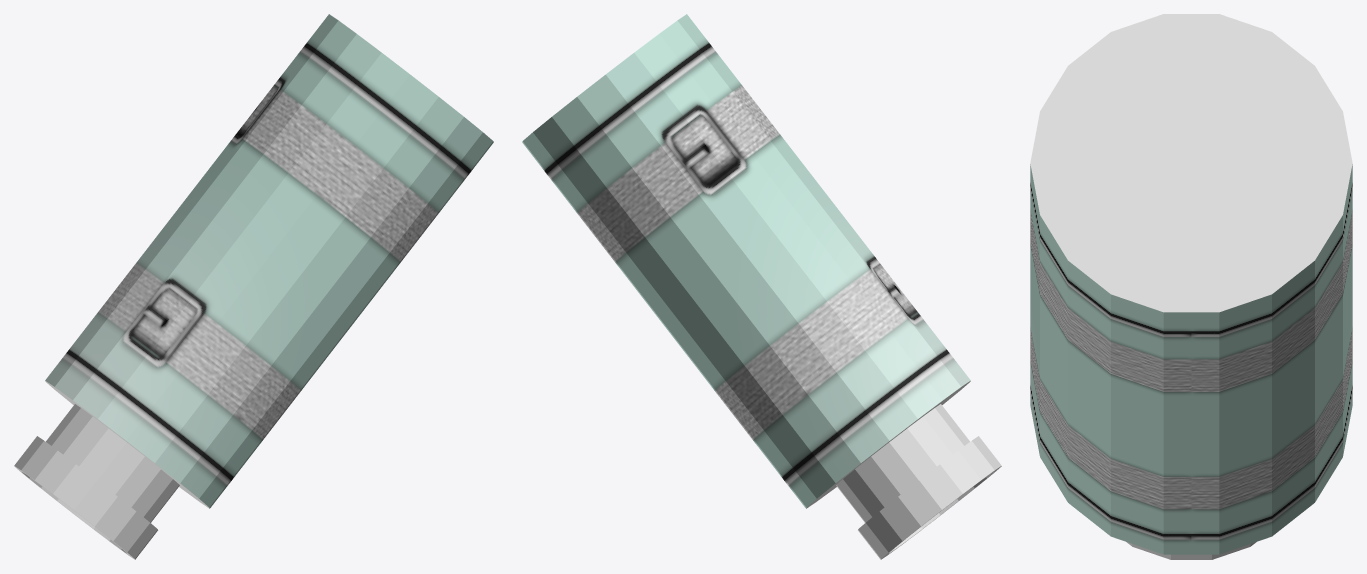
Rendered from ISS_INT_props_Bonbonne_Large.FBX.
3 views of the same model, side by side, from view 1: azimuth 30°, elevation 25°; view 2: azimuth 150°, elevation 25°; view 3: azimuth 270°, elevation 25° (orthographic). The views are drawn at different scales.
Parts seen in each view (by area): view 1: Object002; view 2: Object002; view 3: Object002.
Part boxes in pixels (x1,y1,x2,y2): Object002: (14, 14, 493, 559); Object002: (522, 14, 1001, 559); Object002: (1030, 14, 1352, 559).
Bounding box in the file's own units: 0.0381 × 0.0381 × 0.0156.
